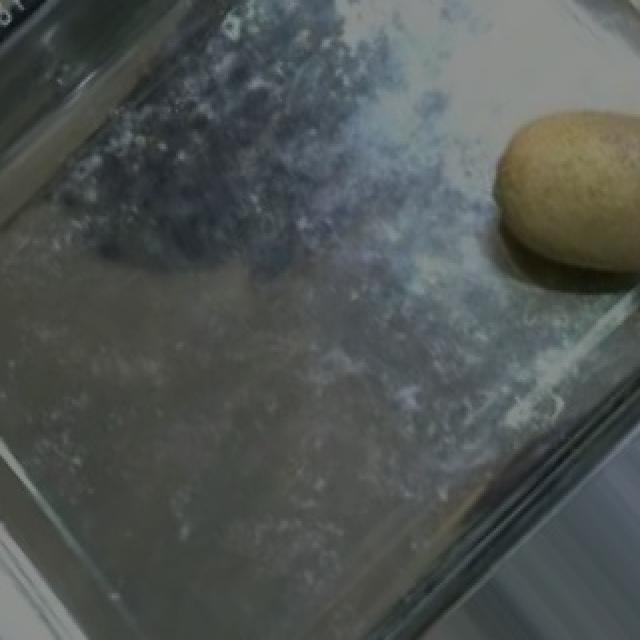Fruit: (458, 60, 640, 318)
